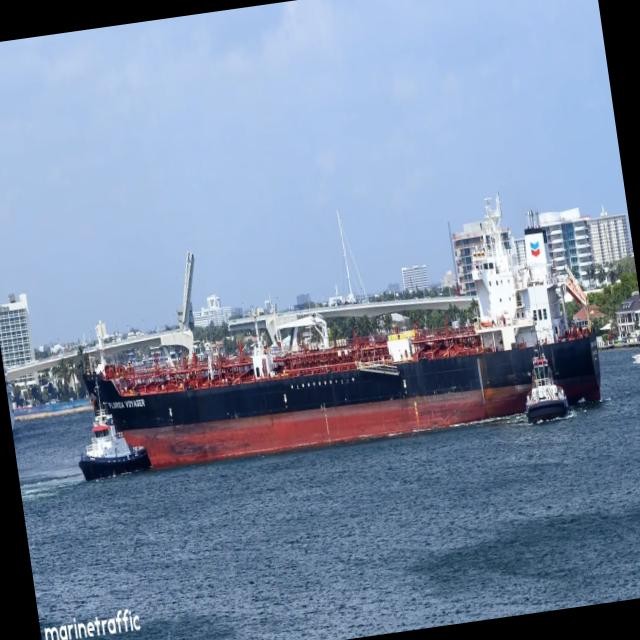Tanker: (81, 190, 601, 468)
Tug: (78, 409, 154, 482), (526, 356, 570, 424)
